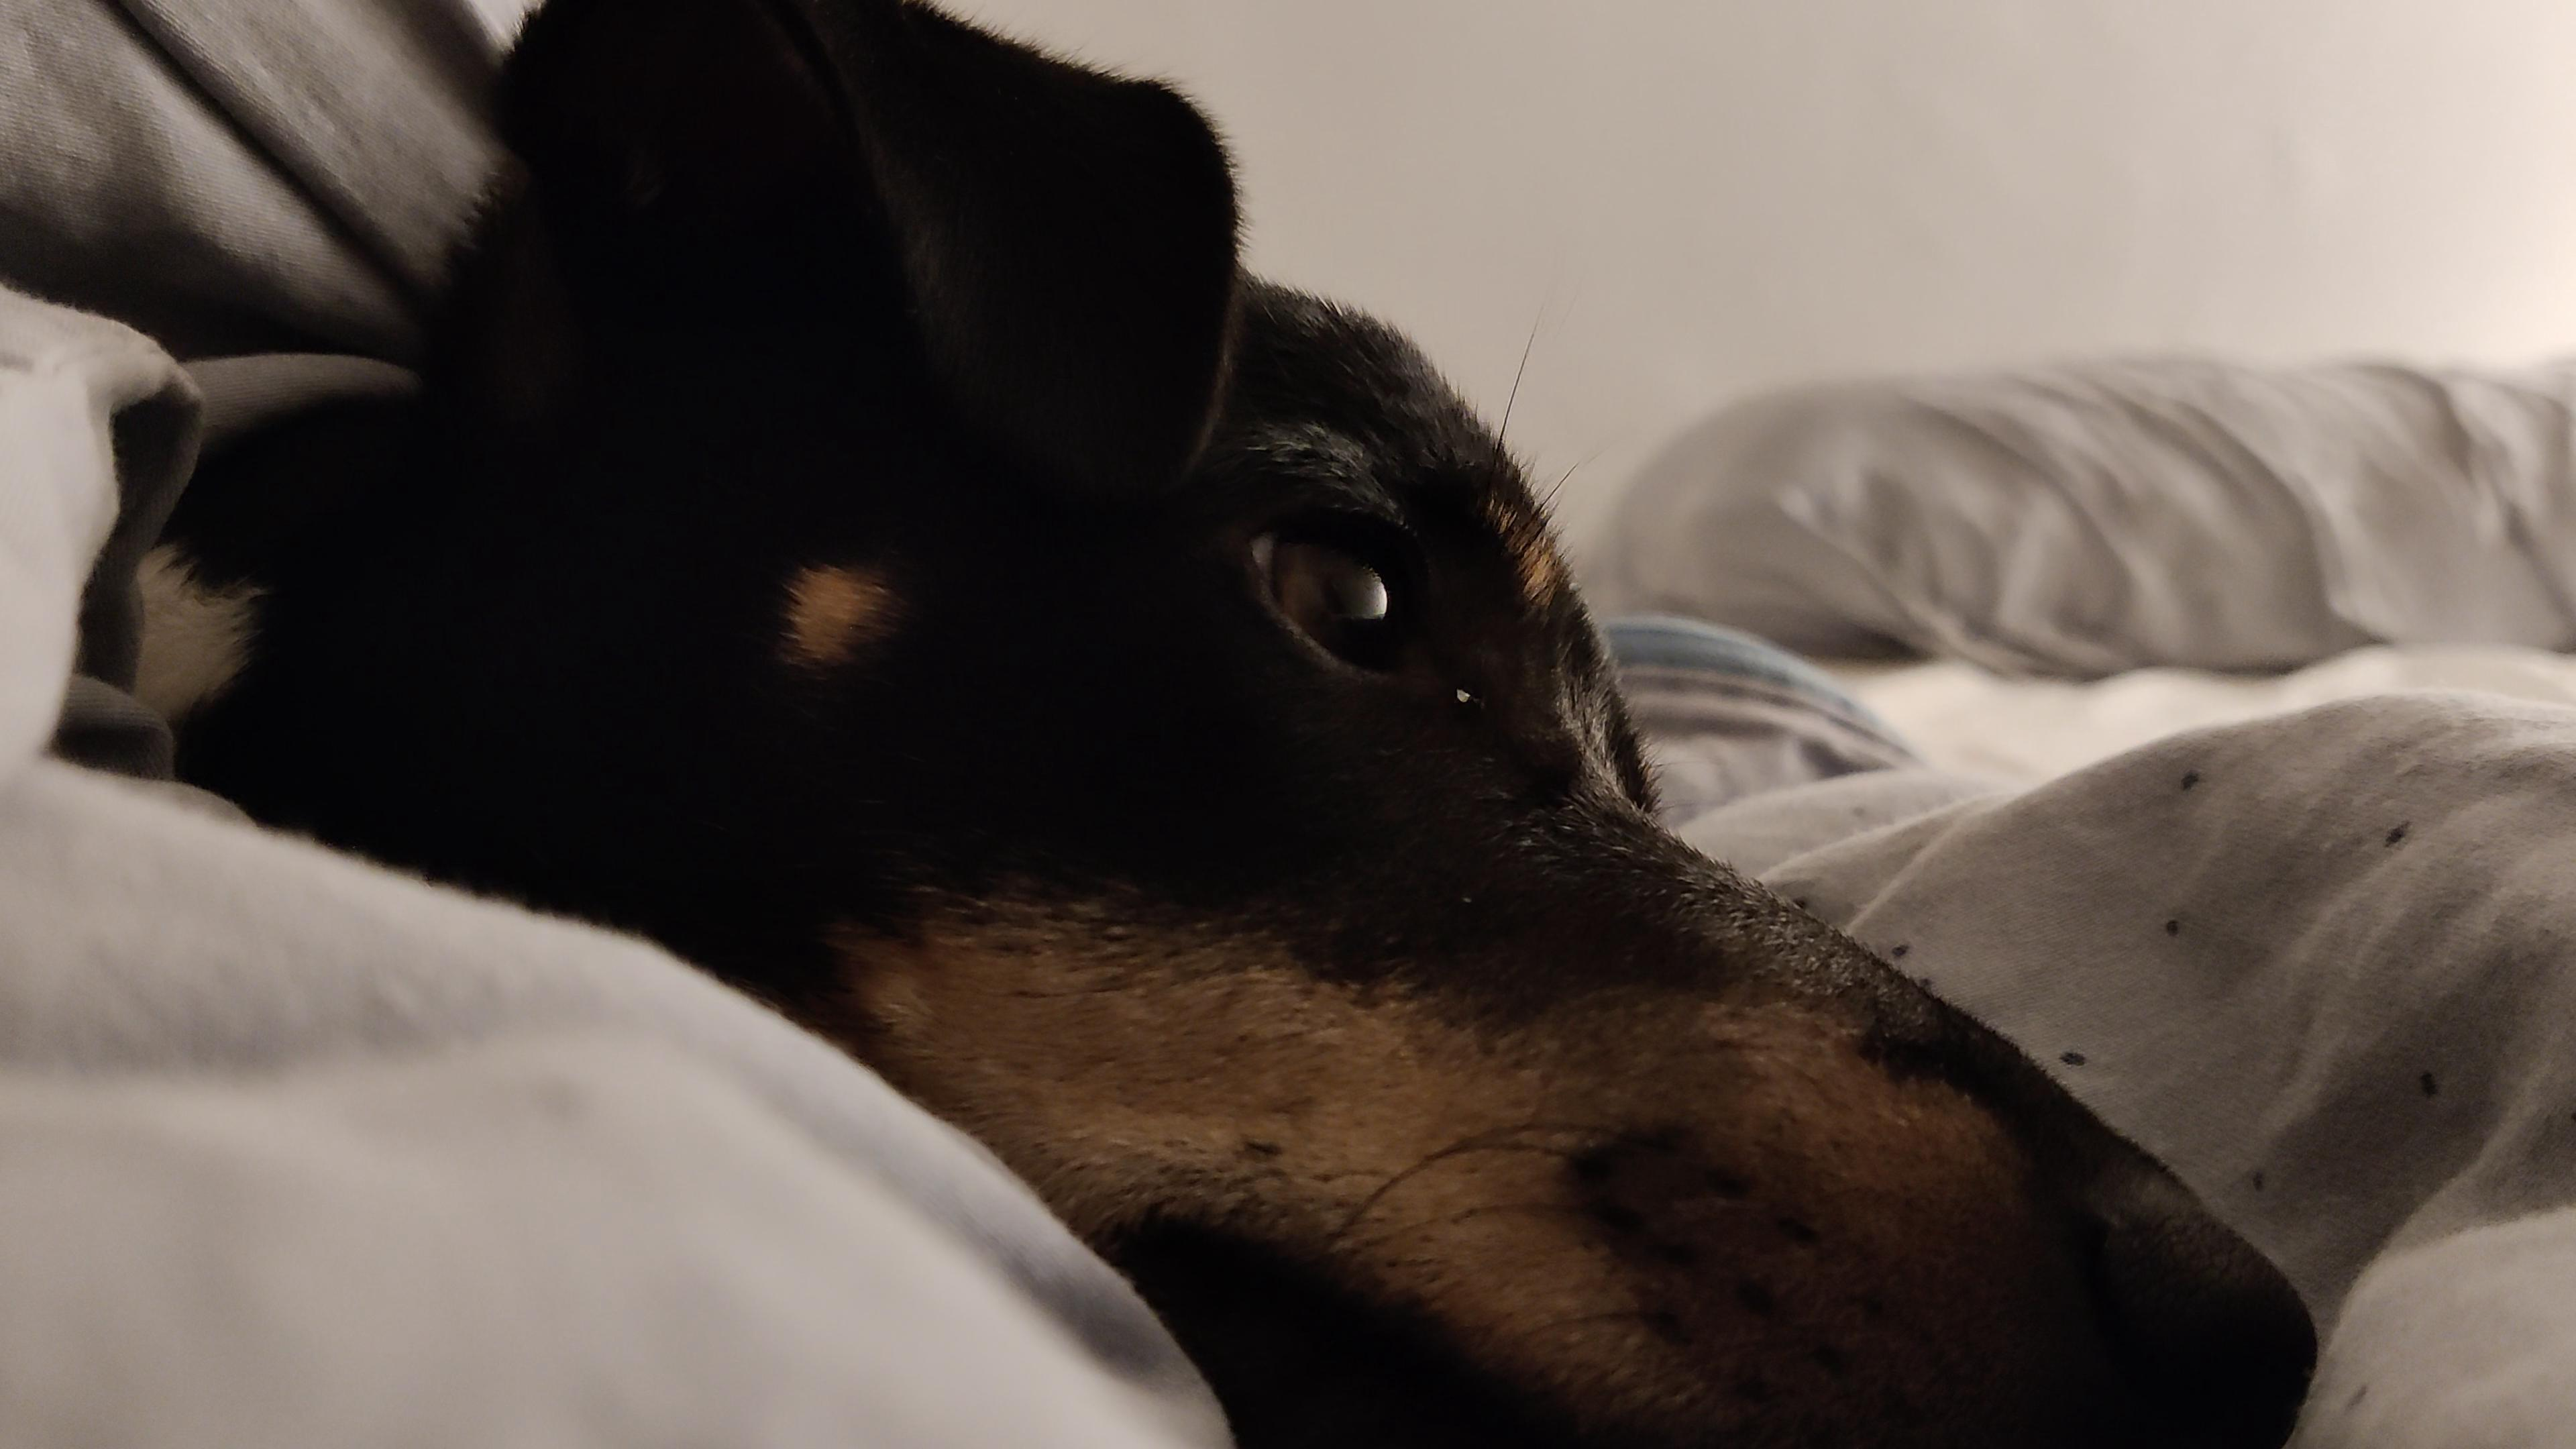Dog: (92, 0, 2323, 1449)
